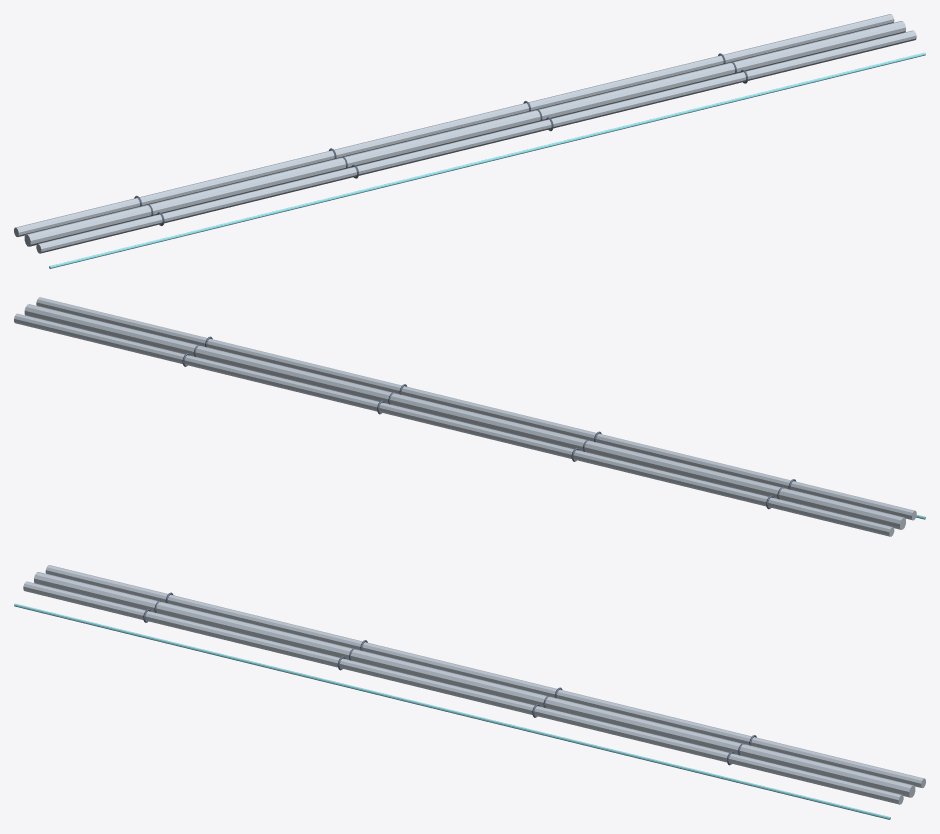
The model's file is tuberias_techo.glb.
3 views of the same model, one above another, from view 1: azimuth 30°, elevation 25°; view 2: azimuth 150°, elevation 25°; view 3: azimuth 330°, elevation 25° (orthographic).
Parts seen in each view (by area): view 1: tuberias_techo; view 2: tuberias_techo; view 3: tuberias_techo.
Boxes of the visible parts, x1=… form: tuberias_techo: x1=14, y1=14, x2=925, y2=268; tuberias_techo: x1=14, y1=297, x2=925, y2=536; tuberias_techo: x1=14, y1=565, x2=925, y2=819.
Size of the model in its own units: 36 by 0.732 by 2.69.
